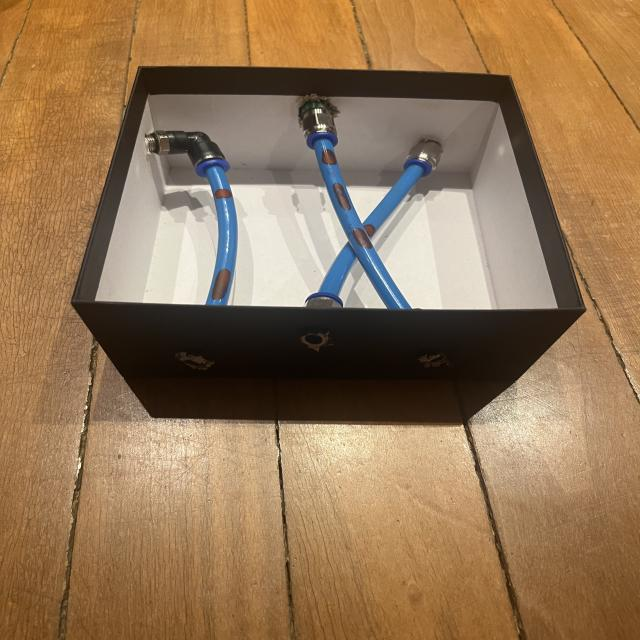hose_damage: (328, 180, 356, 212), (210, 269, 232, 300), (348, 226, 373, 250), (318, 147, 341, 167), (362, 221, 378, 238), (212, 188, 234, 200)
